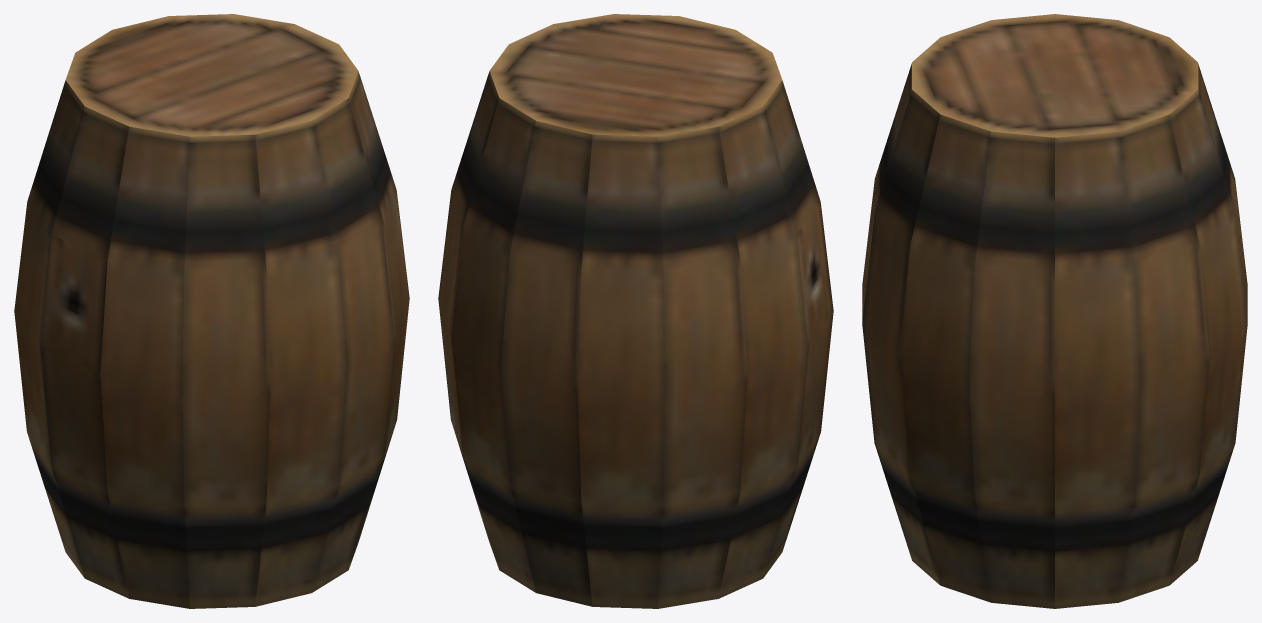
File: woodenbarrel_01.fbx
The picture shows the model from 3 angles, left to right: view 1: azimuth 30°, elevation 25°; view 2: azimuth 150°, elevation 25°; view 3: azimuth 270°, elevation 25°; orthographic projection.
Visible parts, largest first — view 1: GEOM0_LOD0; view 2: GEOM0_LOD0; view 3: GEOM0_LOD0.
Boxes of the visible parts, bbox=[...] form: GEOM0_LOD0: bbox=[14, 14, 409, 608]; GEOM0_LOD0: bbox=[438, 14, 833, 608]; GEOM0_LOD0: bbox=[862, 14, 1247, 608].
Size of what is drawn, in the model's own units: 83.7 by 110 by 81.6.
